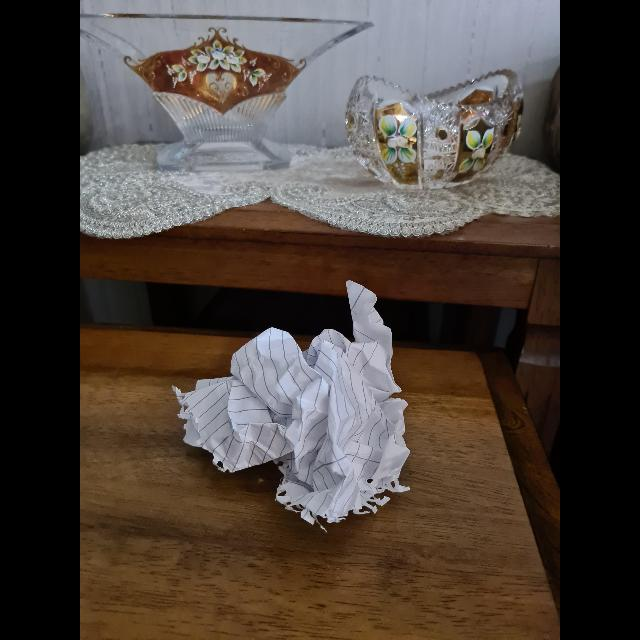scrap_paper: (170, 285, 412, 521)
